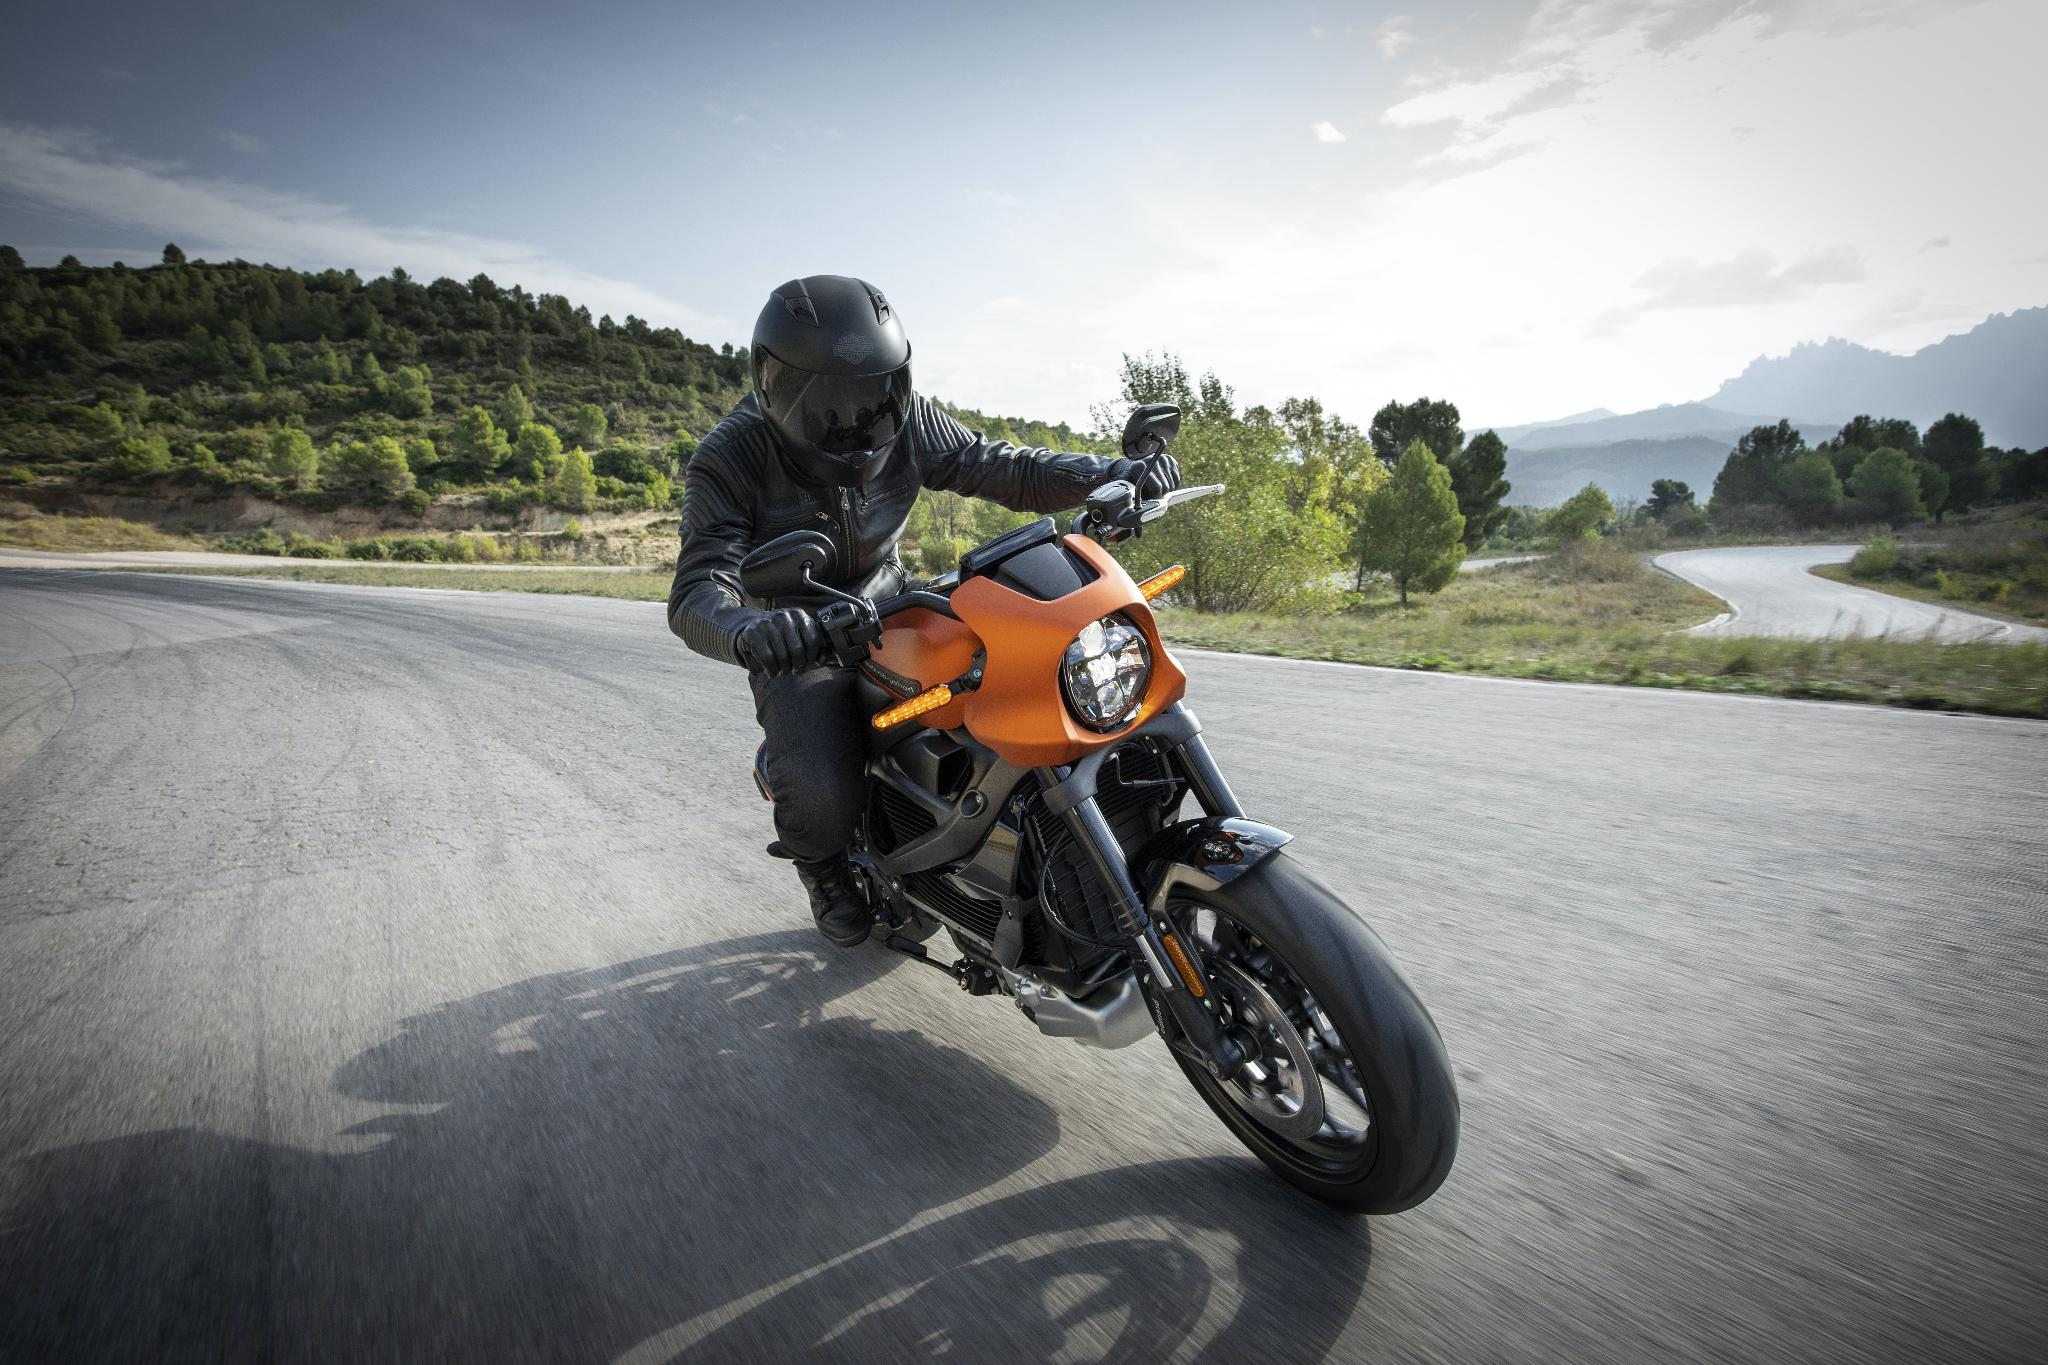motorcycle: (767, 350, 1494, 1229)
